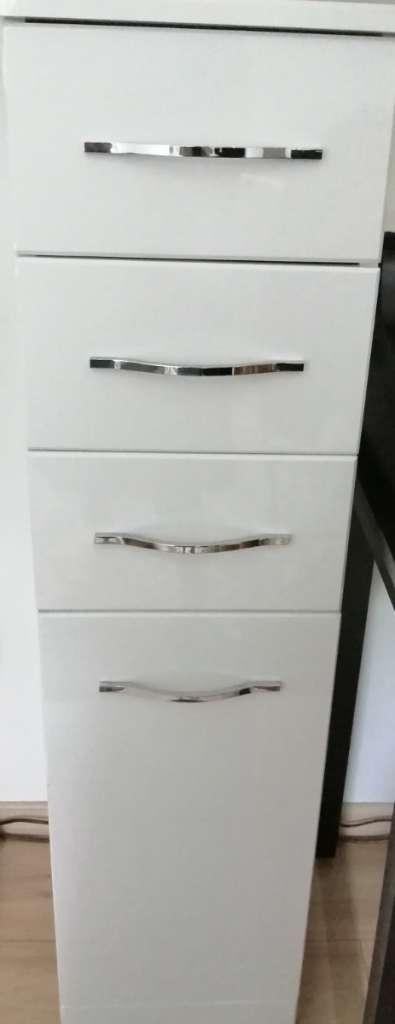cabinet_door: (40, 609, 322, 1009), (10, 28, 385, 250), (20, 261, 369, 443), (30, 450, 347, 606)
handle: (72, 123, 337, 178), (91, 660, 302, 721), (93, 517, 301, 574), (82, 342, 315, 390)
